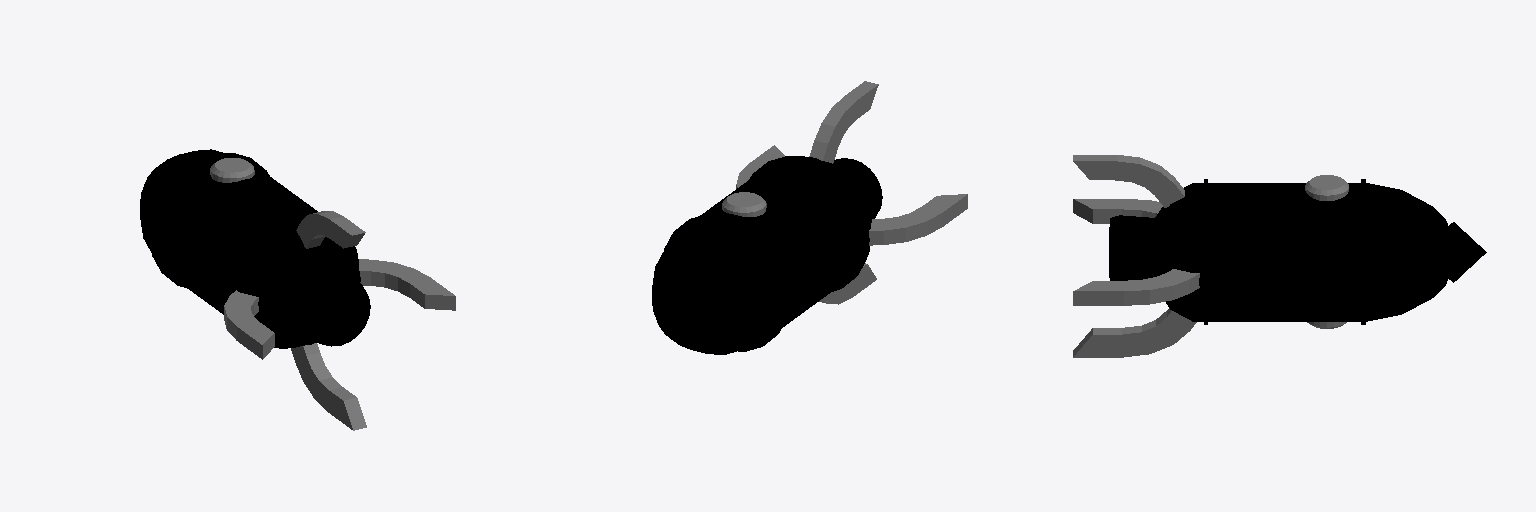
File: rocket02_2.obj
3 renders of one model, left to right at view 1: azimuth 30°, elevation 25°; view 2: azimuth 150°, elevation 25°; view 3: azimuth 270°, elevation 25°, orthographic.
Visible parts, largest first — view 1: rocket1; view 2: rocket1; view 3: rocket1.
Part boxes in pixels (x1,y1,x2,y2): rocket1: (140, 149, 455, 430); rocket1: (652, 81, 967, 354); rocket1: (1073, 155, 1486, 357).
Bounding box in the file's own units: 12.83 × 12.37 × 23.74.